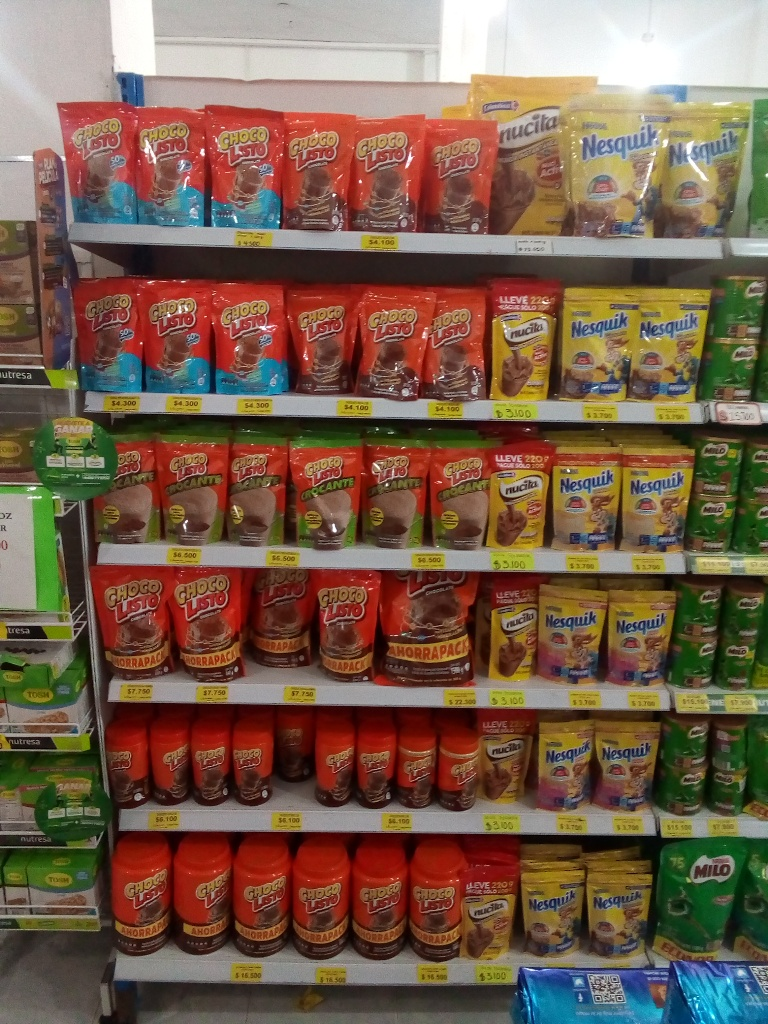COL0170102DYP25000: (89, 433, 159, 545)
COL0170103DYP1,500: (373, 565, 488, 689)
COL0170103DYP44000: (90, 566, 176, 685)
COL0170103TRR00100: (112, 837, 173, 952)
COL0170103TRR30000: (106, 719, 151, 805)
COL0170104DYP20000: (75, 278, 144, 394)
COL0170203LAT20000: (734, 437, 768, 499)
COL0170203LAT40000: (667, 711, 712, 765)
COL0170303DYP20000: (524, 866, 584, 957)
COL0170305DYP20000: (537, 716, 593, 811)
